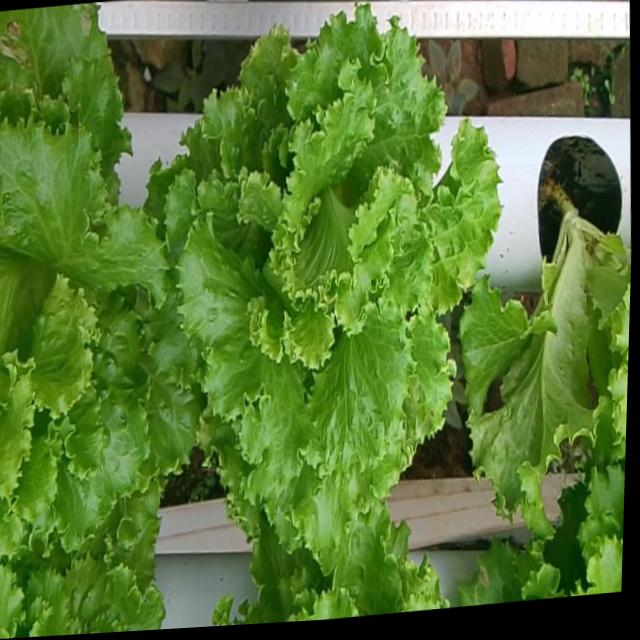Mature: (155, 0, 490, 541), (0, 105, 190, 543)
